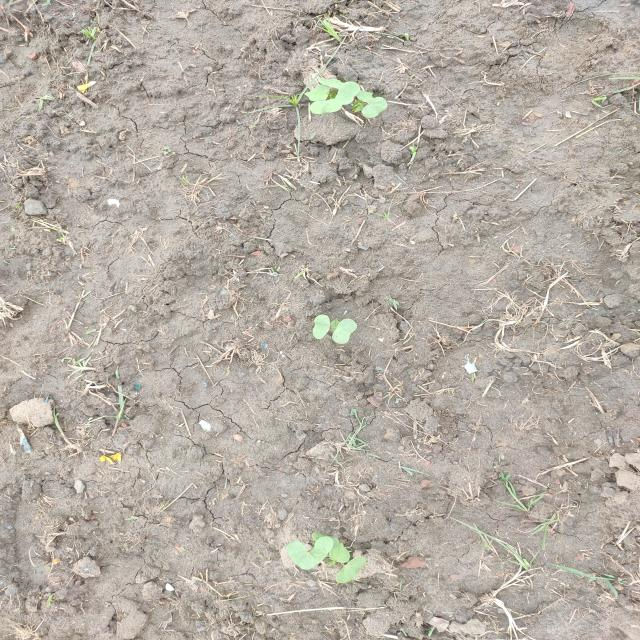seedling: (286, 541, 316, 570), (336, 556, 366, 584), (309, 536, 334, 564), (332, 319, 357, 344), (335, 82, 361, 105), (362, 97, 387, 118), (310, 98, 342, 114), (312, 532, 340, 548), (312, 315, 330, 339), (329, 543, 350, 563), (304, 85, 329, 101), (317, 77, 343, 89), (356, 90, 374, 104), (330, 318, 339, 328)
